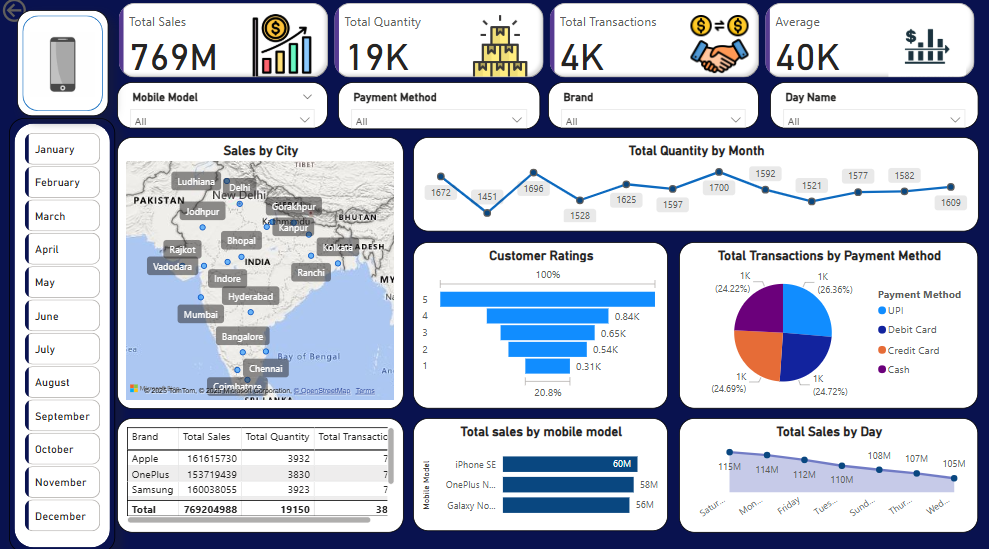

Layout of this report page (visuals, bound fields, positions):
{"tool":"powerbi","page":{"name":"Page 1","canvas":[1280,720],"ordinal":0},"visuals":[{"type":"shape","box":[12.8,158.7,137.5,561.3],"z":0},{"type":"advancedSlicerVisual","fields":{"Values":["Sales_Data.Date.Variation.Date Hierarchy.Month"]},"box":[28.3,172.9,107.7,531.5],"z":1000},{"type":"cardVisual","fields":{"Data":["Sales_Data.Total Sales","Sales_Data.Total Quantity","Sales_Data.Total Transactions","Sales_Data.Average"]},"box":[150.2,9.9,1114,102],"z":2000},{"type":"lineChart","title":"Total Quantity by Month","fields":{"Y":["Sum(Sales_Data.Units Sold)"],"Category":["Sales_Data.Date.Variation.Date Hierarchy.Month","Sales_Data.Date.Variation.Date Hierarchy.Day"]},"box":[534.3,182.8,729.9,121.9],"z":3000},{"type":"clusteredBarChart","title":"Total sales by mobile model","fields":{"Category":["Sales_Data.Mobile Model"],"Y":["Sales_Data.Total Sales"]},"box":[534.2,545.9,329.2,146.1],"z":4000},{"type":"pieChart","fields":{"Category":["Sales_Data.Payment Method"],"Y":["Sales_Data.Total Transactions"]},"box":[876.9,319.2,386.4,215],"z":5000},{"type":"funnel","title":" Customer Ratings ","fields":{"Category":["Sales_Data.Customer Ratings"],"Y":["CountNonNull(Sales_Data.Customer Ratings)"]},"box":[534.2,319.2,329.2,215],"z":6000},{"type":"areaChart","title":"Total Sales by Day","fields":{"Category":["Sales_Data.Day Name"],"Y":["Sales_Data.Total Sales"]},"box":[876.9,545.9,386.4,147.8],"z":7000},{"type":"map","title":"Total sales by City","fields":{"Category":["Sales_Data.City"]},"box":[152.9,183.1,369.6,351.1],"z":8000},{"type":"tableEx","fields":{"Values":["Sales_Data.Brand","Sales_Data.Total Sales","Sales_Data.Total Quantity","Sales_Data.Total Transactions"]},"box":[152.9,545.9,369.6,147.8],"z":9000},{"type":"actionButton","box":[0,0,12.9,40],"z":10000},{"type":"slicer","fields":{"Values":["Sales_Data.Mobile Model"]},"box":[152.9,112.5,272.1,60.5],"z":11000},{"type":"slicer","fields":{"Values":["Sales_Data.Payment Method"]},"box":[438,112,260.8,60.9],"z":12000},{"type":"slicer","fields":{"Values":["Sales_Data.Brand"]},"box":[708.9,112.5,272.1,60.5],"z":13000},{"type":"shape","box":[22.7,19.8,117.6,137.5],"z":14000},{"type":"slicer","fields":{"Values":["Sales_Data.Day Name"]},"box":[994.4,112.5,268.8,60.5],"z":15000},{"type":"image","box":[32.6,42.5,99.2,93.5],"z":16000}]}

Visuals, with their boxes in screenshot pixels (x1, y1, x2, y2), scaled from the page's 1280x720 canvas onto the 989x549 screenshot:
shape: <bbox>10, 121, 116, 548</bbox>
advancedSlicerVisual - Sales_Data.Date.Variation.Date Hierarchy.Month: <bbox>22, 132, 105, 537</bbox>
cardVisual - Sales_Data.Total Sales x Sales_Data.Total Quantity: <bbox>116, 8, 977, 85</bbox>
"Total Quantity by Month" lineChart: <bbox>413, 139, 977, 232</bbox>
"Total sales by mobile model" clusteredBarChart: <bbox>413, 416, 667, 528</bbox>
pieChart - Sales_Data.Payment Method x Sales_Data.Total Transactions: <bbox>678, 243, 976, 407</bbox>
" Customer Ratings " funnel: <bbox>413, 243, 667, 407</bbox>
"Total Sales by Day" areaChart: <bbox>678, 416, 976, 529</bbox>
"Total sales by City" map: <bbox>118, 140, 404, 407</bbox>
tableEx - Sales_Data.Brand x Sales_Data.Total Sales: <bbox>118, 416, 404, 529</bbox>
actionButton: <bbox>0, 0, 10, 30</bbox>
slicer - Sales_Data.Mobile Model: <bbox>118, 86, 328, 132</bbox>
slicer - Sales_Data.Payment Method: <bbox>338, 85, 540, 132</bbox>
slicer - Sales_Data.Brand: <bbox>548, 86, 758, 132</bbox>
shape: <bbox>18, 15, 108, 120</bbox>
slicer - Sales_Data.Day Name: <bbox>768, 86, 976, 132</bbox>
image: <bbox>25, 32, 102, 104</bbox>
